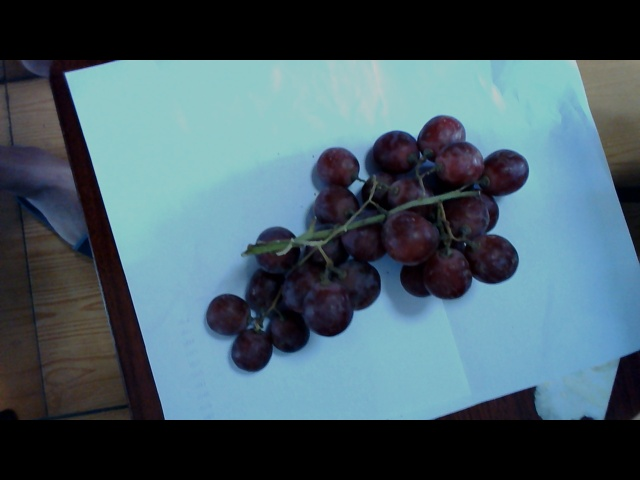grape: (201, 122, 537, 364)
